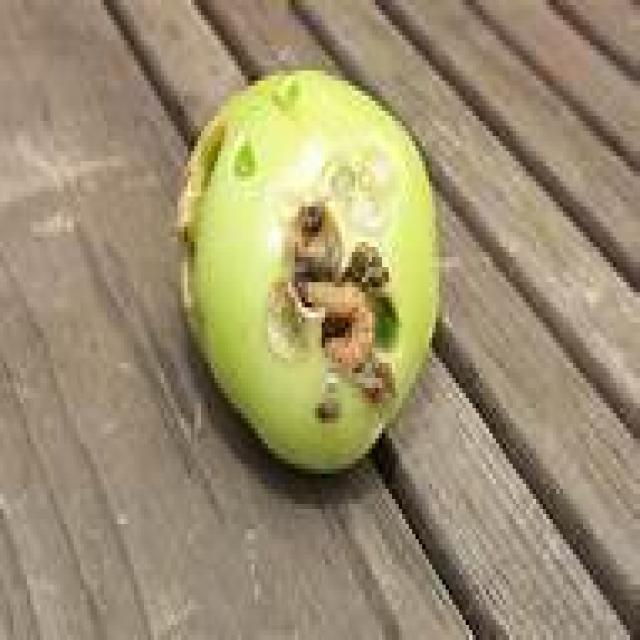Olive Fruit Fly: (184, 71, 439, 469)
